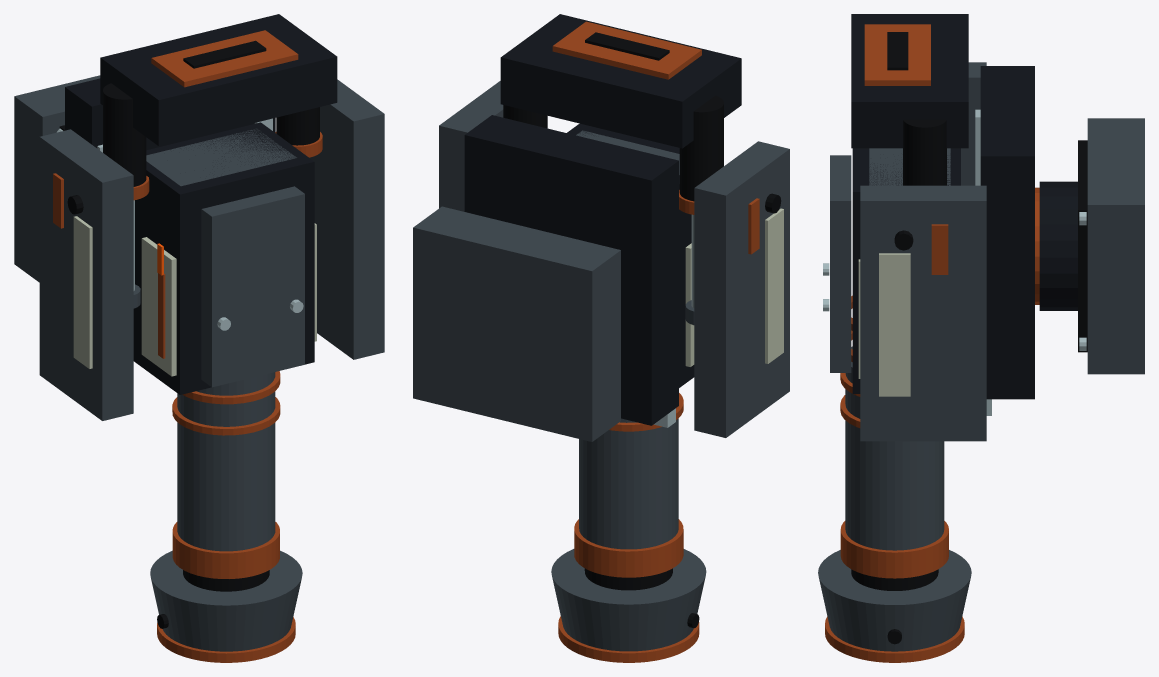
3 views of the same model, side by side, from view 1: azimuth 30°, elevation 25°; view 2: azimuth 150°, elevation 25°; view 3: azimuth 270°, elevation 25° (orthographic).
Parts seen in each view (by area): view 1: Cradle_Cheek_-1, Moving_Receiver_Top, Cradle_Cheek_1, Moving_Receiver, Rear_Bulkhead, Barrel_Jacket, Muzzle_Brake_Cone, Socket_Foot, Moving_Rear_Counterweight, Rear_Service_Plate, Receiver_Ceramic_Cheek_-1, Barrel_Outer_Ring (+11 smaller); view 2: Socket_Foot, Lower_Cradle, Cradle_Cheek_-1, Rear_Bulkhead, Barrel_Jacket, Muzzle_Brake_Cone, Rear_Service_Plate, Cradle_Cheek_1, Barrel_Outer_Ring, Piston_Housing_-1, Cheek_Inlay_-1, Moving_Receiver (+7 smaller); view 3: Cradle_Cheek_1, Lower_Cradle, Socket_Foot, Barrel_Jacket, Rear_Bulkhead, Muzzle_Brake_Cone, Azimuth_Bearing, Moving_Receiver_Top, Cheek_Inlay_1, Rear_Service_Plate, Barrel_Outer_Ring, Piston_Housing_1 (+9 smaller).
Part boxes in pixels (box(x1,y1,x2,y2)): Cradle_Cheek_-1: box(39, 129, 133, 420); Moving_Receiver_Top: box(201, 186, 304, 387); Cradle_Cheek_1: box(309, 79, 384, 359); Moving_Receiver: box(133, 122, 314, 394); Rear_Bulkhead: box(100, 14, 337, 145); Barrel_Jacket: box(177, 372, 275, 551); Muzzle_Brake_Cone: box(150, 550, 302, 651); Socket_Foot: box(14, 75, 100, 282); Moving_Rear_Counterweight: box(146, 128, 296, 186); Rear_Service_Plate: box(151, 30, 298, 87); Receiver_Ceramic_Cheek_-1: box(141, 237, 176, 376); Barrel_Outer_Ring: box(172, 522, 279, 578); Socket_Foot: box(413, 206, 620, 441); Lower_Cradle: box(464, 115, 678, 425); Cradle_Cheek_-1: box(694, 141, 789, 437); Rear_Bulkhead: box(500, 14, 741, 148); Barrel_Jacket: box(579, 418, 678, 549); Muzzle_Brake_Cone: box(551, 549, 706, 651); Rear_Service_Plate: box(552, 21, 701, 79); Cradle_Cheek_1: box(439, 81, 503, 211); Barrel_Outer_Ring: box(574, 519, 683, 577); Piston_Housing_-1: box(679, 95, 723, 201); Cheek_Inlay_-1: box(765, 208, 783, 363); Moving_Receiver: box(567, 123, 694, 387); Cradle_Cheek_1: box(860, 185, 986, 441); Lower_Cradle: box(980, 66, 1034, 399); Socket_Foot: box(1087, 118, 1144, 374); Barrel_Jacket: box(845, 346, 944, 550); Rear_Bulkhead: box(851, 14, 968, 148); Muzzle_Brake_Cone: box(818, 550, 971, 651); Azimuth_Bearing: box(1039, 181, 1077, 310); Moving_Receiver_Top: box(830, 155, 851, 372); Cheek_Inlay_1: box(879, 253, 910, 396); Rear_Service_Plate: box(864, 24, 930, 85); Barrel_Outer_Ring: box(840, 521, 948, 578); Piston_Housing_1: box(903, 119, 946, 185).
Bounding box in the file's own units: 1.16 × 2.14 × 1.09.
